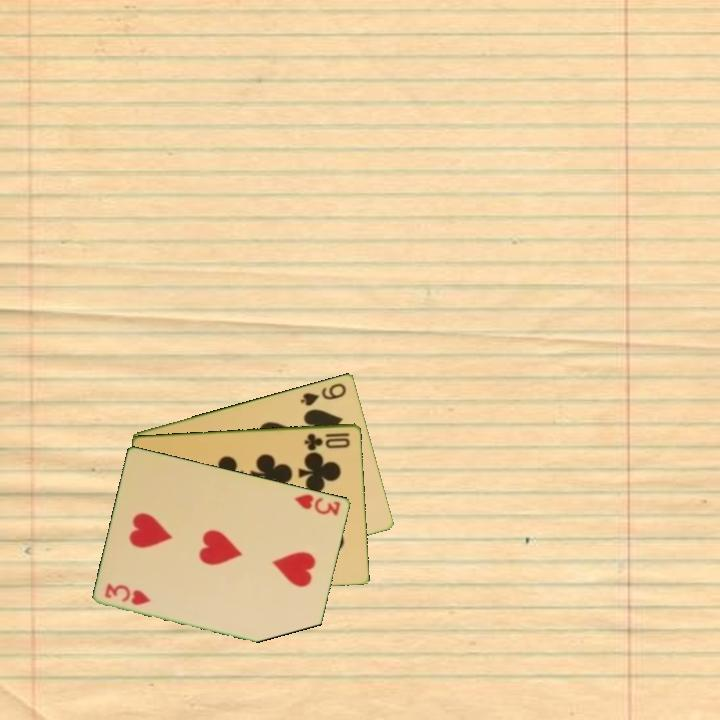10c: (301, 429, 353, 452)
3h: (290, 490, 344, 519), (101, 580, 154, 608)
9s: (297, 379, 349, 408)
